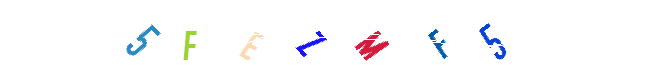5: (148, 0, 228, 80), (371, 0, 451, 80)
E: (230, 0, 310, 80)
F: (228, 0, 308, 80), (331, 0, 411, 80)
M: (287, 0, 367, 80)
Z: (263, 0, 343, 80)
